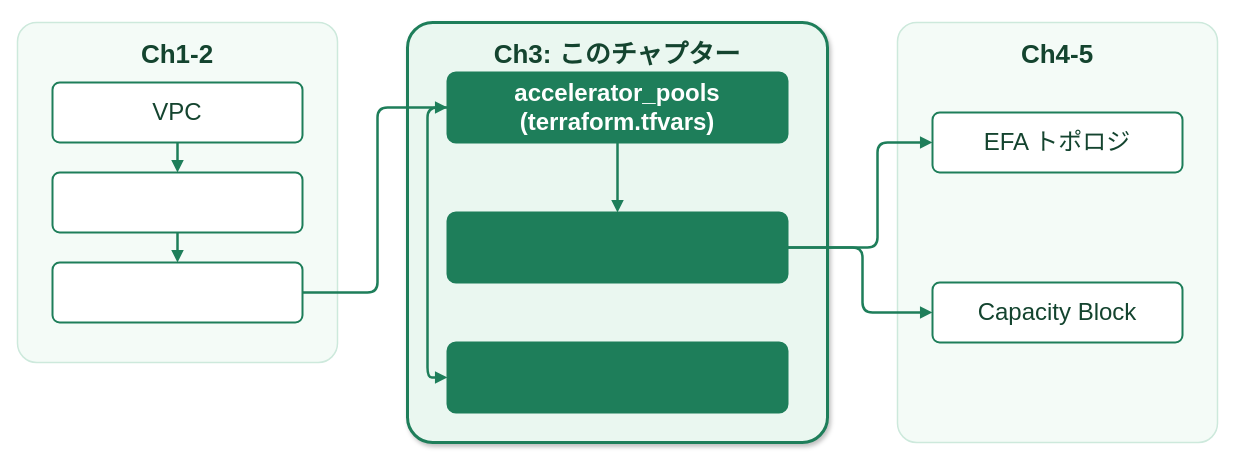
This 1236x468 diagram has some shape labels left out. The centre of each missing label's shape, as x and y in pixels:
EKS: the point at 177,202
GPU Operator / EFA plugin: the point at 617,377
Karpenter: the point at 177,292
NodePool + EC2NodeClass: the point at 617,247
